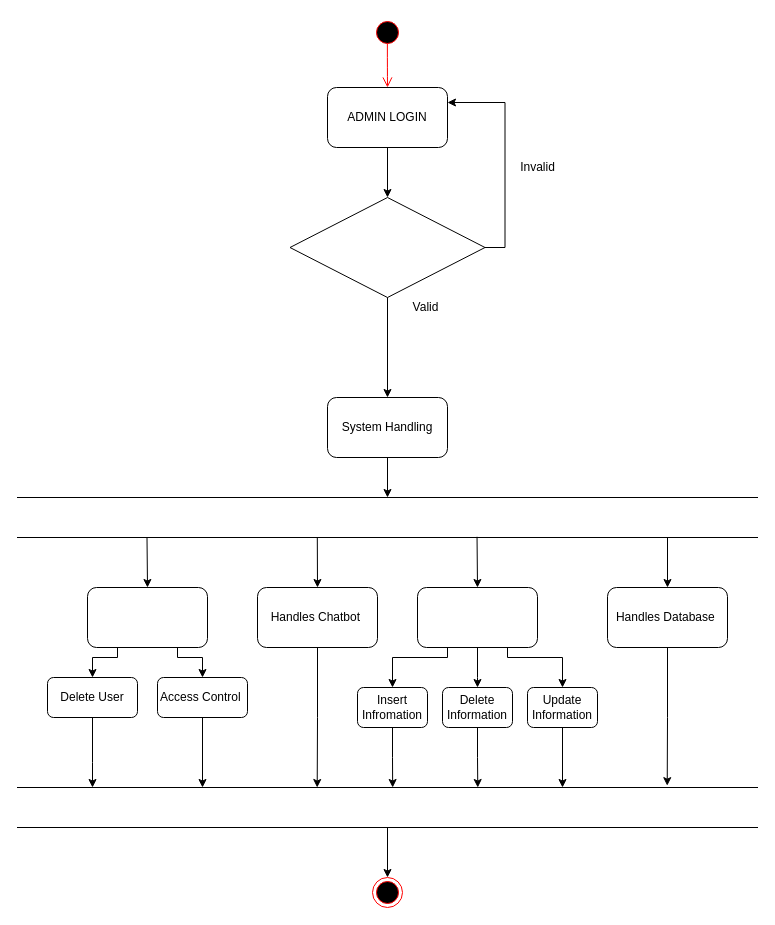
Some shapes in this 775 by 925 pixel diagram are drawn without their labels. The centre of each missing label's shape, as x and y in pixels:
"Authentication" belongs at (387,247).
"Manage User" belongs at (147,617).
"Manipulate Institute Information" belongs at (477,617).
